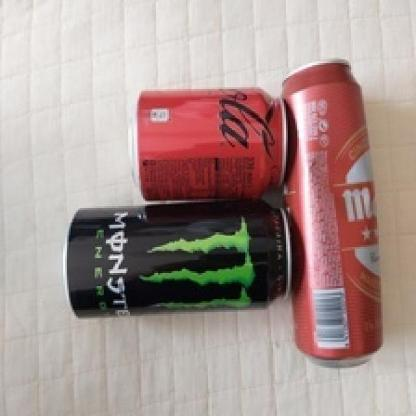Can: (274, 58, 388, 374), (60, 194, 292, 323), (133, 86, 288, 206)
